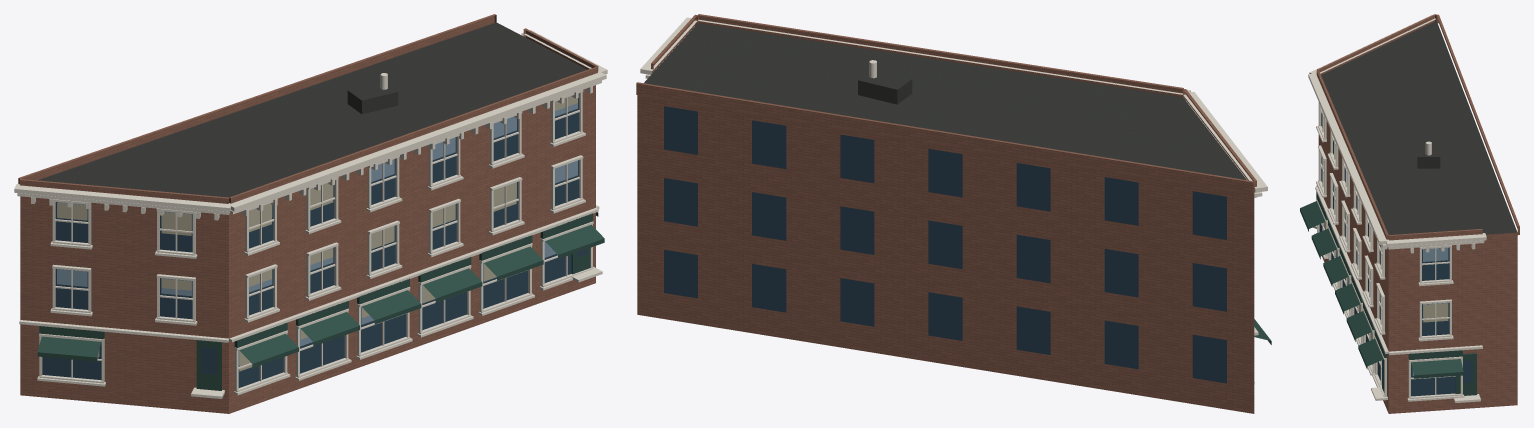
3 views of the same model, side by side, from view 1: azimuth 30°, elevation 25°; view 2: azimuth 150°, elevation 25°; view 3: azimuth 270°, elevation 25° (orthographic). The views are drawn at different scales.
Parts seen in each view (by area): view 1: Footprint 0 / surface 2, Footprint 0 / surface 1, Cornices and window frames, Inset glazing, Storefronts and doors, Facade bay volumes, Interior blind variation, Sky reflection panels, Inferred rooftop service enclosure / surface 5; view 2: Footprint 0 / surface 2, Footprint 0 / surface 1, Inset glazing, Facade bay volumes, Cornices and window frames, Inferred rooftop service enclosure / surface 6; view 3: Footprint 0 / surface 1, Footprint 0 / surface 2, Cornices and window frames, Storefronts and doors, Facade bay volumes, Inset glazing, Interior blind variation, Sky reflection panels, Inferred rooftop service enclosure / surface 1, Inferred rooftop service enclosure / surface 3.
Boxes of the visible parts, x1,y1,x2,y2 form: Footprint 0 / surface 2: (20,85,595,413); Footprint 0 / surface 1: (38,22,586,197); Cornices and window frames: (14,30,607,398); Inset glazing: (42,93,588,387); Storefronts and doors: (37,212,604,390); Facade bay volumes: (18,14,598,203); Interior blind variation: (57,96,577,371); Sky reflection panels: (57,103,577,364); Inferred rooftop service enclosure / surface 5: (362,92,398,114); Footprint 0 / surface 2: (637,95,1254,413); Footprint 0 / surface 1: (644,23,1246,179); Inset glazing: (664,106,1226,383); Facade bay volumes: (636,14,1256,193); Cornices and window frames: (640,17,1267,383); Inferred rooftop service enclosure / surface 6: (858,80,897,104); Footprint 0 / surface 1: (1321,21,1517,234); Footprint 0 / surface 2: (1318,121,1517,413); Cornices and window frames: (1308,15,1486,402); Storefronts and doors: (1300,192,1476,396); Facade bay volumes: (1316,14,1519,240); Inset glazing: (1319,113,1472,396); Interior blind variation: (1321,108,1448,339); Sky reflection panels: (1321,159,1448,375); Inferred rooftop service enclosure / surface 1: (1417,157,1440,168); Inferred rooftop service enclosure / surface 3: (1417,142,1440,156).
Size of the model in its own units: 28.25 by 11.14 by 11.34.
